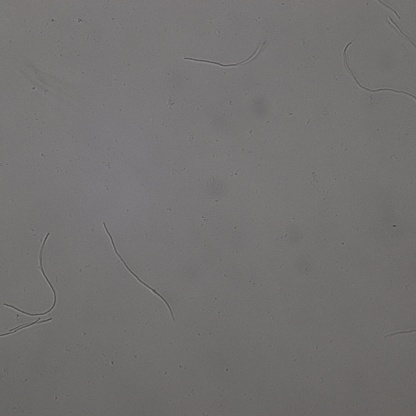Sensitive: (103, 223, 173, 320), (1, 232, 58, 316), (342, 42, 416, 101), (184, 43, 264, 69), (1, 318, 53, 340)
